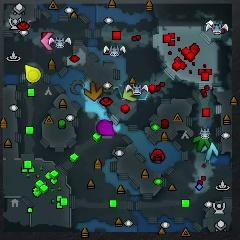p3: (97, 120, 117, 137)
p4: (25, 65, 41, 83)
x1: (41, 31, 58, 51)
x2: (122, 85, 139, 103)
x3: (201, 141, 219, 160)
x4: (194, 134, 210, 151)
x5: (85, 81, 103, 102)
